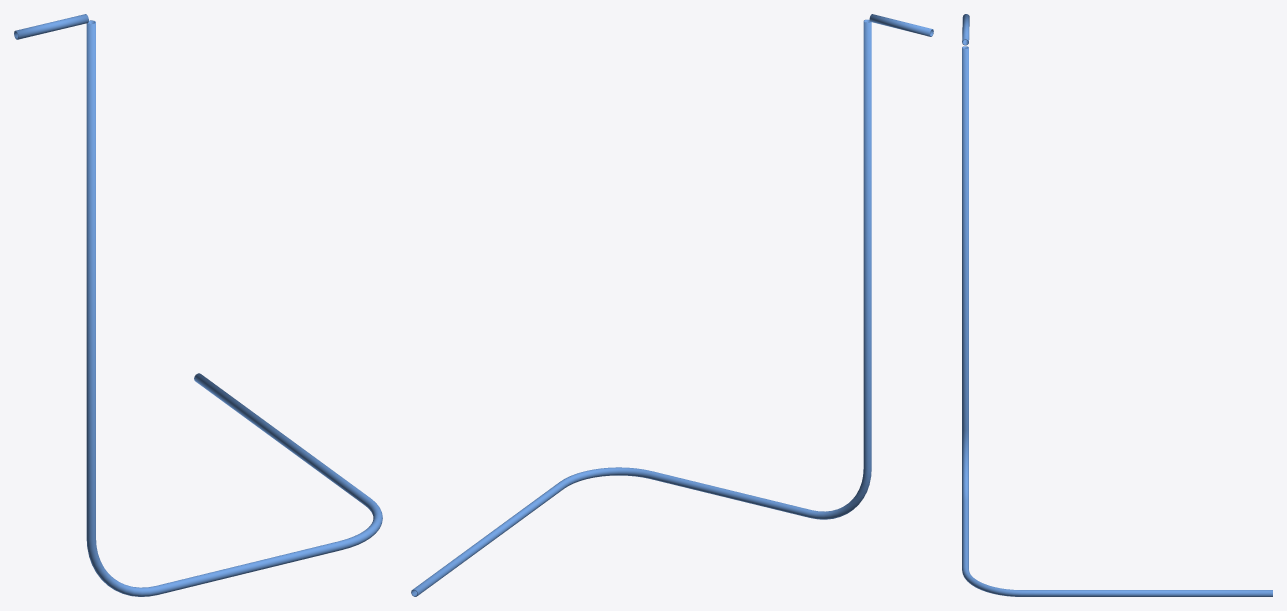
Rendered from pipes_supply__water_heater__86824b80__r4y.glb.
The picture shows the model from 3 angles, left to right: view 1: azimuth 30°, elevation 25°; view 2: azimuth 150°, elevation 25°; view 3: azimuth 270°, elevation 25°; orthographic projection. The views are drawn at different scales.
Parts seen in each view (by area): view 1: pipe_supply_cold_riser_flo_s__pex; view 2: pipe_supply_cold_riser_flo_s__pex; view 3: pipe_supply_cold_riser_flo_s__pex.
Boxes of the visible parts, x1=… form: pipe_supply_cold_riser_flo_s__pex: x1=14, y1=14, x2=382, y2=596; pipe_supply_cold_riser_flo_s__pex: x1=411, y1=14, x2=933, y2=596; pipe_supply_cold_riser_flo_s__pex: x1=962, y1=14, x2=1272, y2=596.
Size of the model in its own units: 1.07 by 1.55 by 0.989.
